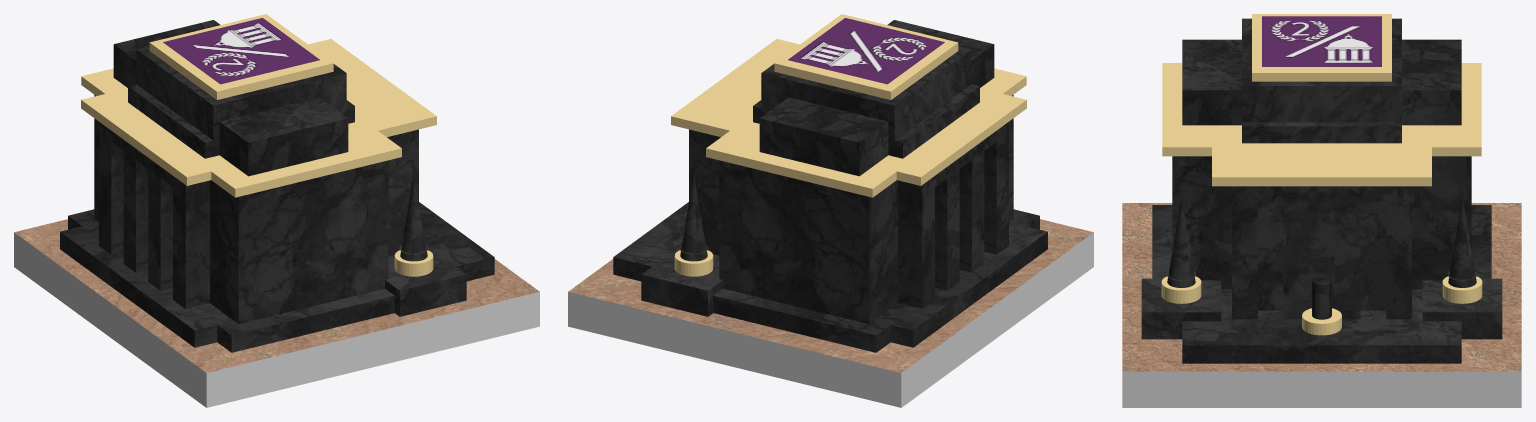
Rendered from buildingJardin.glb.
3 renders of one model, left to right at view 1: azimuth 30°, elevation 25°; view 2: azimuth 150°, elevation 25°; view 3: azimuth 270°, elevation 25°, orthographic. The views are drawn at different scales.
Parts seen in each view (by area): view 1: Jardin; view 2: Jardin; view 3: Jardin.
Part boxes in pixels (bbox=[...]): Jardin: bbox=[14, 14, 539, 407]; Jardin: bbox=[568, 14, 1093, 407]; Jardin: bbox=[1122, 14, 1521, 407].
Bounding box in the file's own units: 2 × 1.46 × 2.
5 materials, 3 textured.
